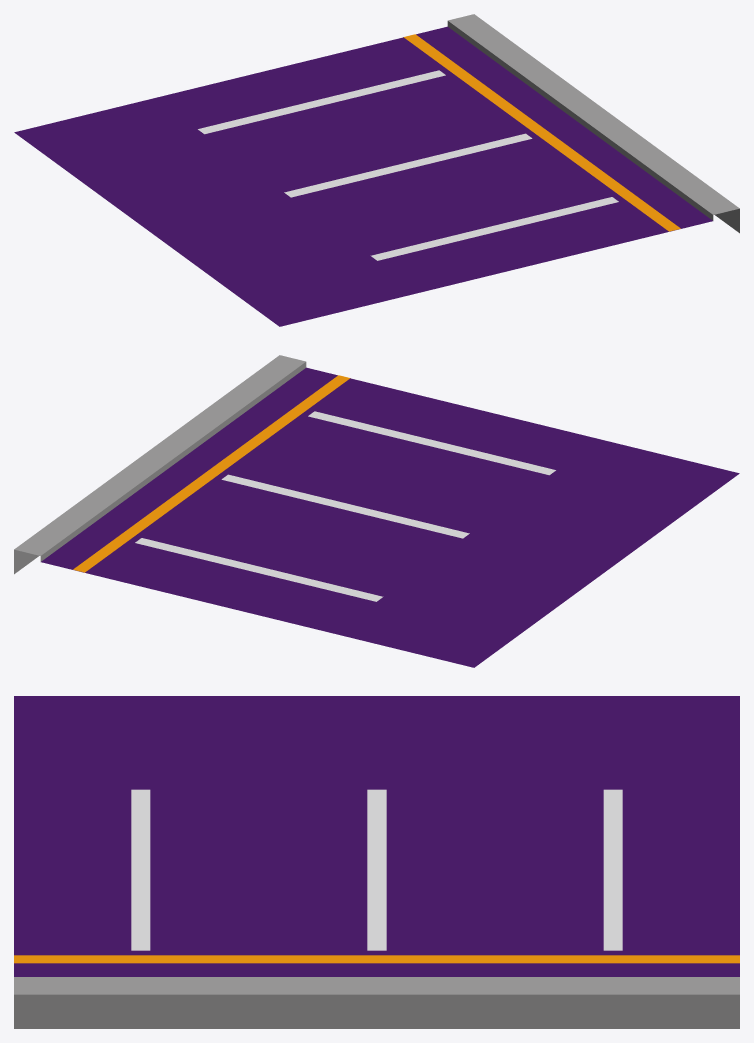
The model's file is ParkingRoad_C_3.glb.
3 views of the same model, one above another, from view 1: azimuth 30°, elevation 25°; view 2: azimuth 150°, elevation 25°; view 3: azimuth 270°, elevation 25° (orthographic). The views are drawn at different scales.
Visible parts, largest first — view 1: ParkingRoad_C_3; view 2: ParkingRoad_C_3; view 3: ParkingRoad_C_3.
Part boxes in pixels (box(x1,y1,x2,y2)): ParkingRoad_C_3: box(14, 14, 739, 326); ParkingRoad_C_3: box(14, 355, 739, 667); ParkingRoad_C_3: box(14, 696, 739, 1028).
Bounding box in the file's own units: 8 × 0.4148 × 8.
Materials: 1 (1 with a texture image).
